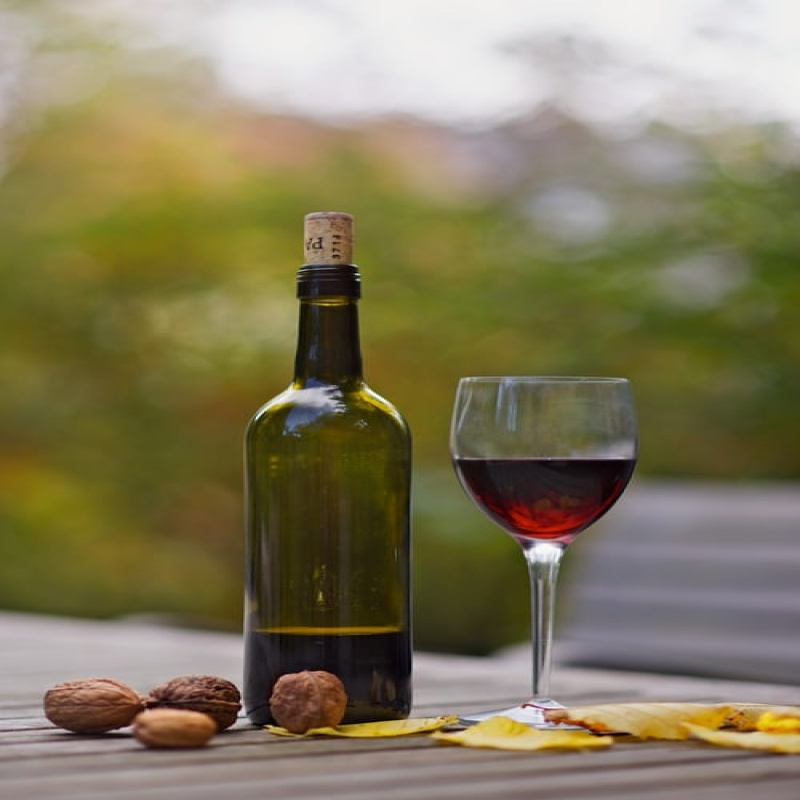wine: (250, 265, 412, 715)
